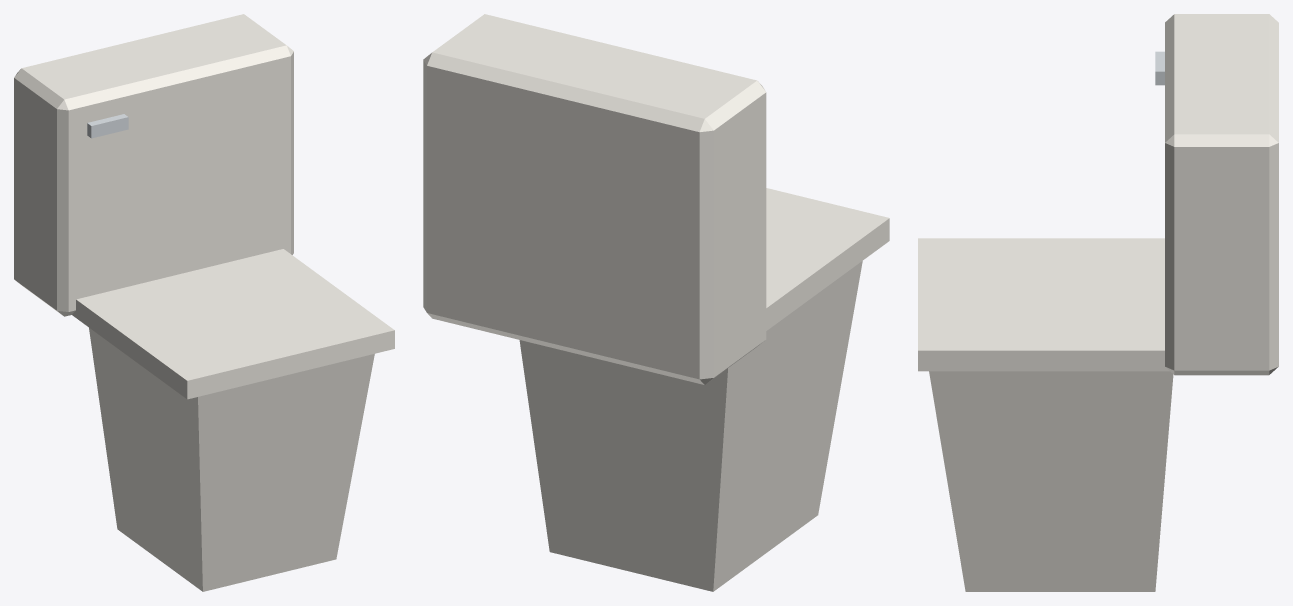
Rendered from PRP_Toilet.fbx.
The picture shows the model from 3 angles, left to right: view 1: azimuth 30°, elevation 25°; view 2: azimuth 150°, elevation 25°; view 3: azimuth 270°, elevation 25°; orthographic projection. The views are drawn at different scales.
Visible parts, largest first — view 1: PRP_Toilet; view 2: PRP_Toilet; view 3: PRP_Toilet.
Part boxes in pixels (x1,y1,x2,y2): PRP_Toilet: (14,14,394,591); PRP_Toilet: (423,14,889,591); PRP_Toilet: (918,14,1278,591).
Size of the model in its own units: 1.6 by 2.8 by 1.9.
